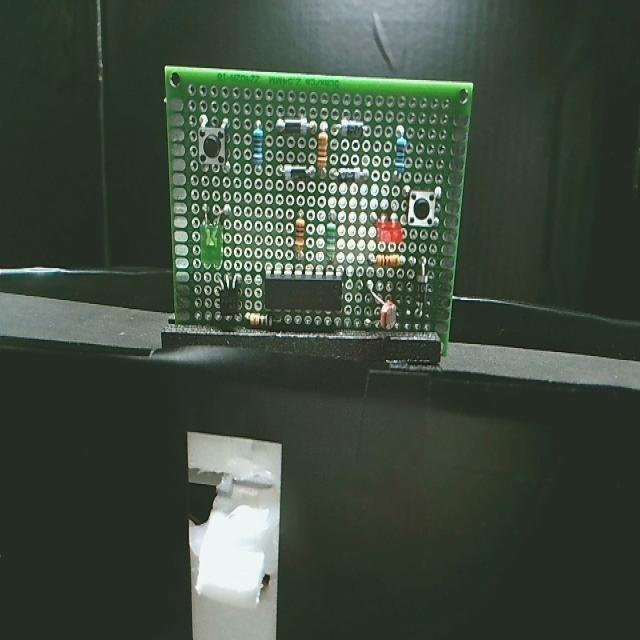IC: (261, 262, 347, 316)
cds: (363, 278, 400, 336)
diode: (273, 114, 318, 142), (329, 118, 374, 142), (273, 162, 319, 184), (329, 164, 371, 188), (414, 255, 429, 322)
led: (198, 200, 234, 273), (366, 212, 406, 248)
resistor: (252, 118, 268, 183), (392, 123, 408, 187), (324, 208, 341, 268), (316, 118, 331, 184), (362, 250, 408, 271), (241, 310, 285, 330), (294, 208, 308, 264)
switch: (195, 112, 236, 179), (401, 186, 444, 233)
transistor: (212, 272, 243, 318)
